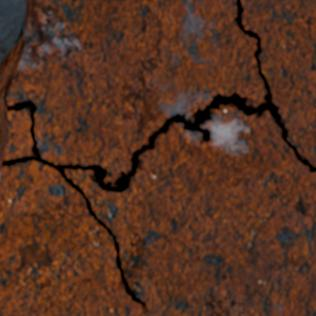brick: (0, 106, 315, 315), (0, 0, 265, 181), (242, 0, 315, 165)
crack: (0, 0, 315, 314)
